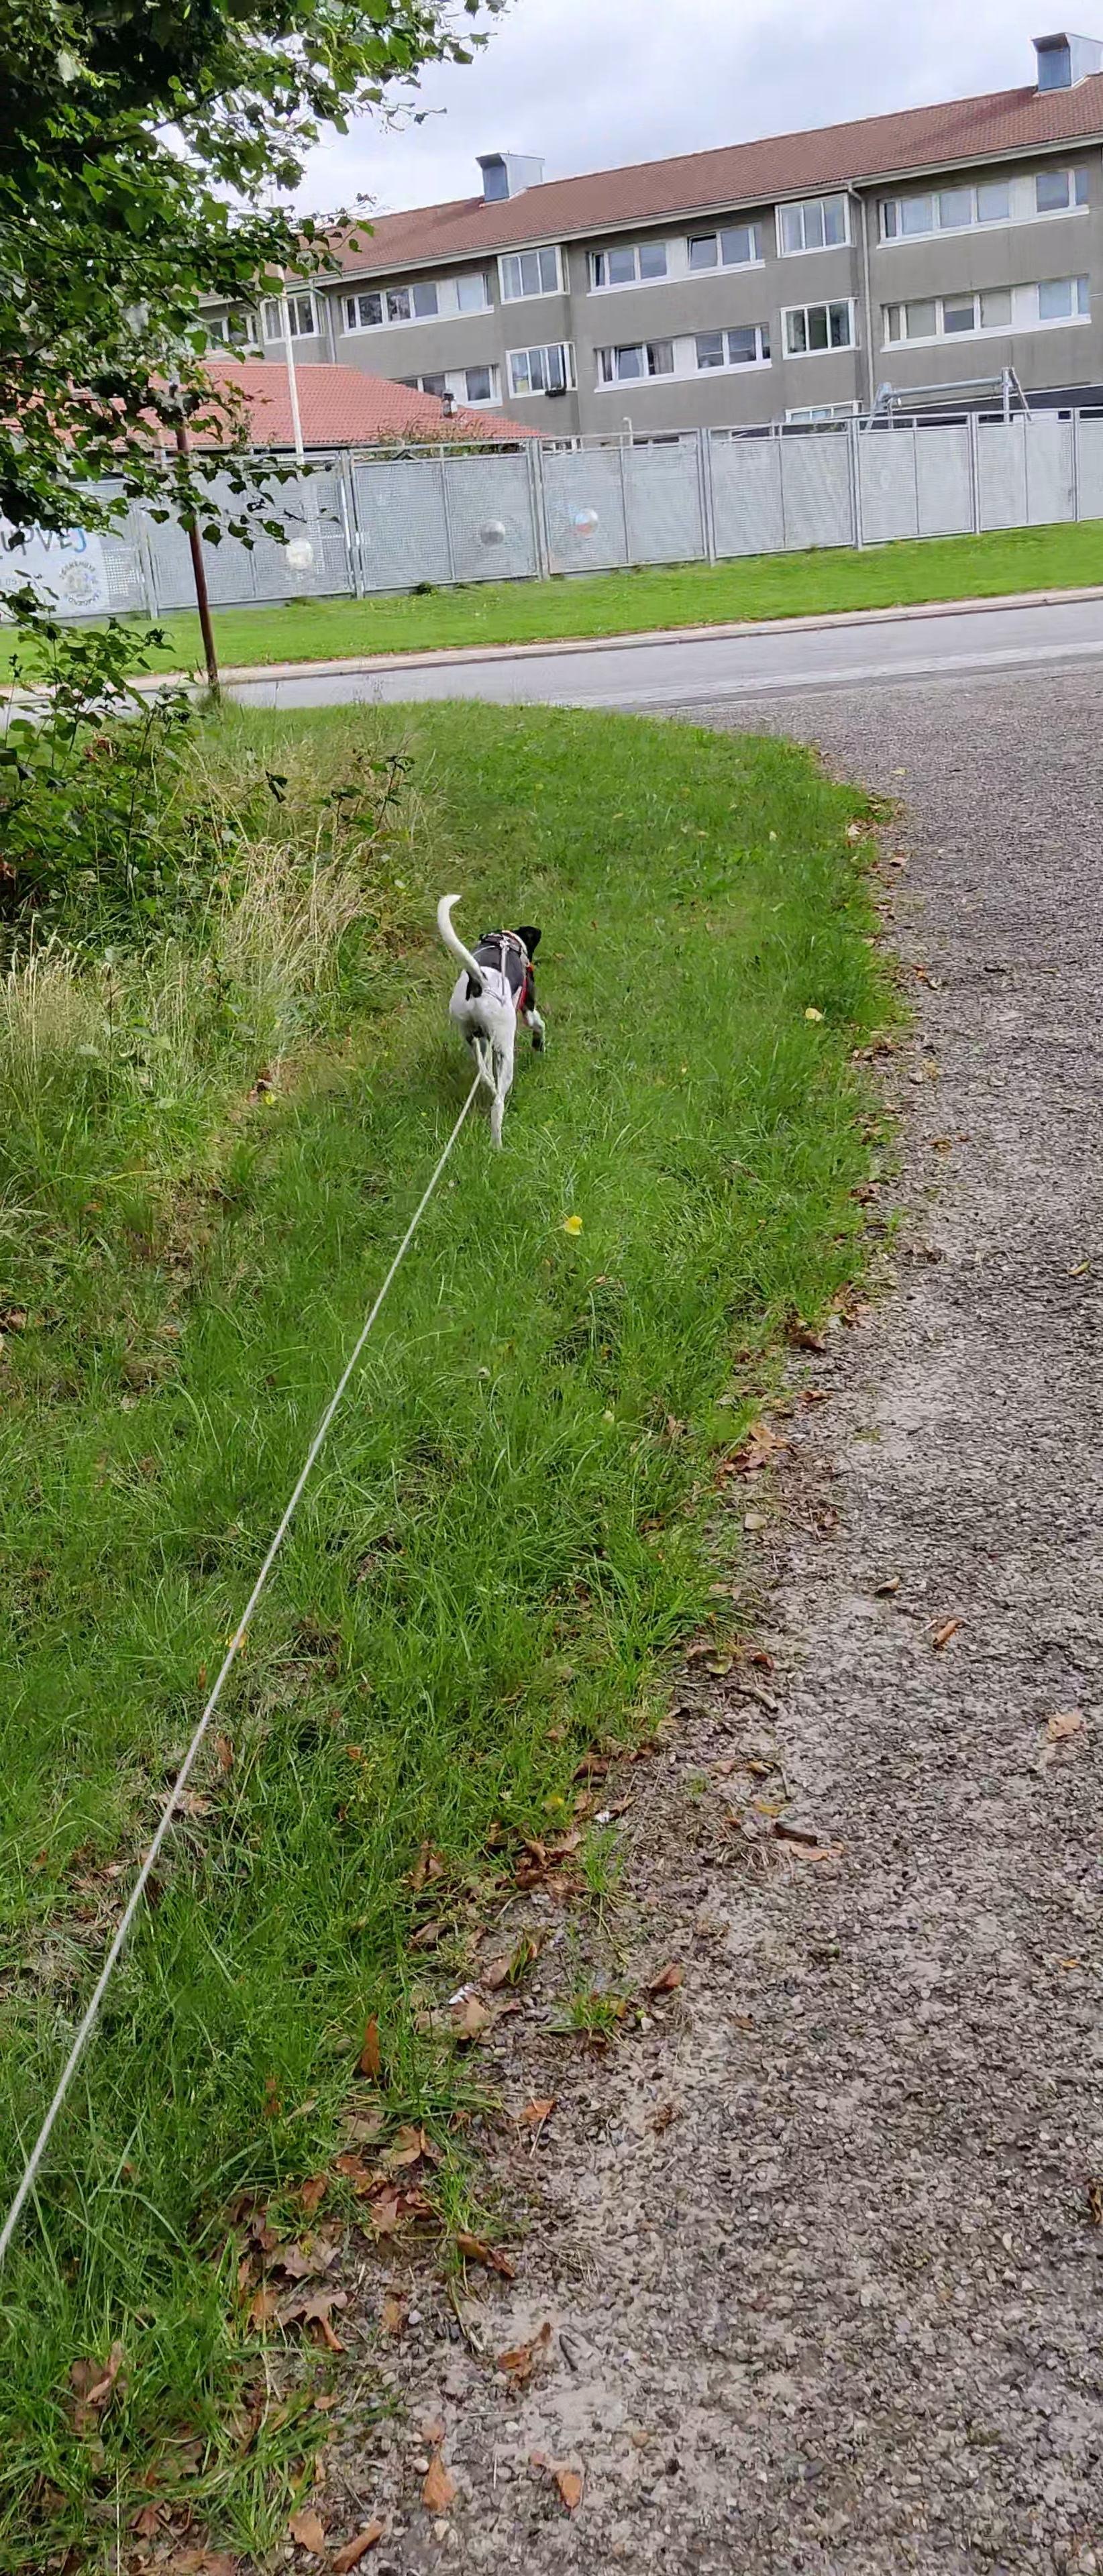Dog: (427, 889, 551, 1155)
